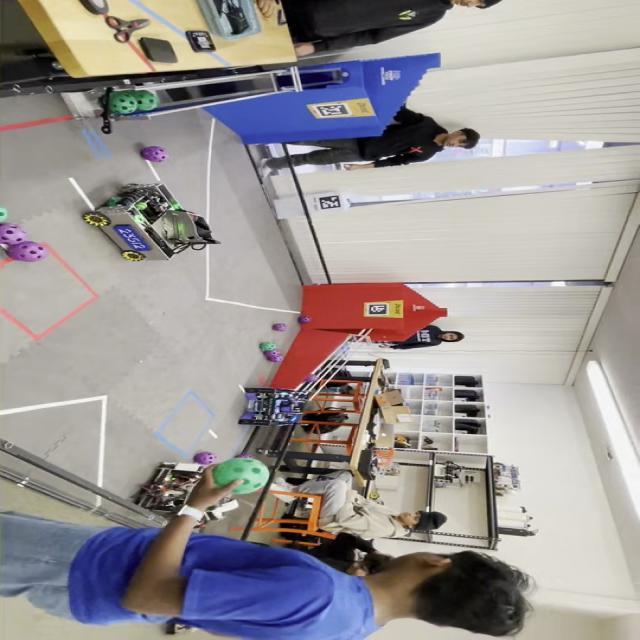artifact_green: (213, 458, 270, 493), (110, 91, 137, 114), (131, 90, 158, 111), (110, 90, 136, 100), (264, 350, 284, 362), (104, 197, 122, 207), (132, 213, 146, 224), (260, 342, 277, 351), (0, 207, 8, 223), (298, 316, 312, 323), (136, 202, 148, 210), (172, 203, 182, 210)
artifact_purple: (8, 241, 48, 261), (0, 224, 27, 245), (140, 146, 168, 162), (194, 452, 218, 466), (265, 350, 283, 362), (304, 374, 318, 383), (272, 323, 287, 331), (298, 316, 312, 323), (235, 454, 252, 458)
